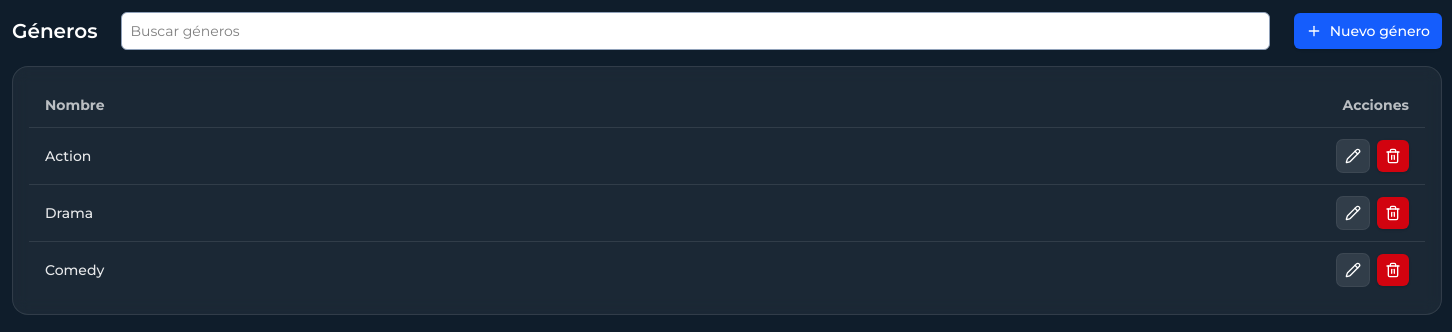
Test case: GenresPage › filters genres by search term
Check: the text "Action" is shown, box [45, 147, 91, 165]
Type "Action" into the field with placeholder "Buscar géneros".
click(696, 31); type("Action")  # box [122, 12, 1270, 50]
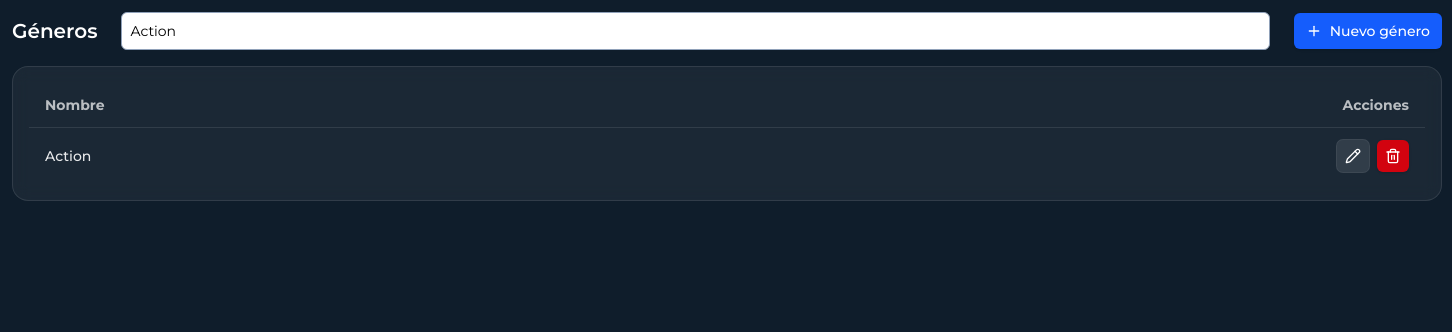
Check: the text "Action" is shown, box [45, 147, 91, 165]
Check: the text "Drama" is gone
